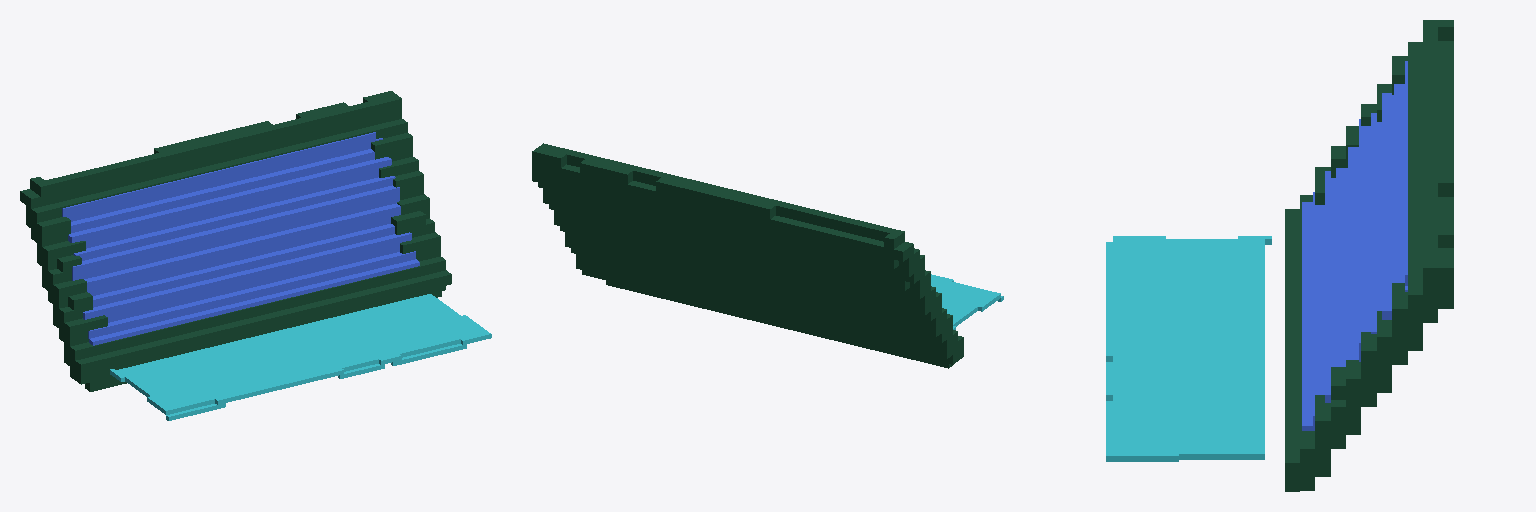
robot.urdf — physxnet_10114_strict:
<?xml version='1.0' encoding='utf-8'?>
<robot name="physxnet_10114_strict">
  <link name="l_world">
    <inertial>
      <origin xyz="0 0 0" rpy="0 0 0" />
      <mass value="0.0100000000" />
      <inertia ixx="0.0000001667" ixy="0.0" ixz="0.0" iyy="0.0000001667" iyz="0.0" izz="0.0000001667" />
    </inertial>
  </link><link name="l_0">
    <inertial>
      <origin xyz="-0.0019166549 0.0879811925 0.0015493027" rpy="0 0 0" />
      <mass value="0.0061784728" />
      <inertia ixx="0.0000083834" ixy="0.0" ixz="0.0" iyy="0.0000580596" iyz="0.0" izz="0.0000546644" />
    </inertial><visual>
      <origin xyz="0 0 0" rpy="0 0 0" />
      <geometry>
        <mesh filename="../rigid_visuals/part_000_visual.obj" scale="1 1 1" />
      </geometry><material name="mat_l_0">
        <color rgba="0.32548 0.48041 0.93131 1.00000" />
      </material>
    </visual><collision>
      <origin xyz="0 0 0" rpy="0 0 0" />
      <geometry>
        <mesh filename="part_000_collision.obj" scale="1 1 1" />
      </geometry>
    </collision>
  </link><joint name="joint_fixed_l_world_l_0" type="fixed">
    <parent link="l_world" />
    <child link="l_0" />
    <origin xyz="0 0 0" rpy="0 0 0" />
  </joint><link name="l_1">
    <inertial>
      <origin xyz="0.0000139443 0.0928852414 0.0001529301" rpy="0 0 0" />
      <mass value="0.0827007993" />
      <inertia ixx="0.0001968635" ixy="0.0" ixz="0.0" iyy="0.0009809401" iyz="0.0" izz="0.0009034850" />
    </inertial><visual>
      <origin xyz="0 0 0" rpy="0 0 0" />
      <geometry>
        <mesh filename="../rigid_visuals/part_001_visual.obj" scale="1 1 1" />
      </geometry><material name="mat_l_1">
        <color rgba="0.15447 0.35718 0.26453 1.00000" />
      </material>
    </visual><collision>
      <origin xyz="0 0 0" rpy="0 0 0" />
      <geometry>
        <mesh filename="part_001_collision.obj" scale="1 1 1" />
      </geometry>
    </collision>
  </link><joint name="joint_fixed_l_0_l_1" type="fixed">
    <parent link="l_0" />
    <child link="l_1" />
    <origin xyz="0 0 0" rpy="0 0 0" />
  </joint><link name="l_2">
    <inertial>
      <origin xyz="0.0000062864 -0.0169202602 -0.0603934316" rpy="0 0 0" />
      <mass value="0.0018462751" />
      <inertia ixx="0.0000014169" ixy="0.0" ixz="0.0" iyy="0.0000152180" iyz="0.0" izz="0.0000166314" />
    </inertial><visual>
      <origin xyz="0 0 0" rpy="0 0 0" />
      <geometry>
        <mesh filename="../rigid_visuals/part_002_visual.obj" scale="1 1 1" />
      </geometry><material name="mat_l_2">
        <color rgba="0.29417 0.82410 0.87988 1.00000" />
      </material>
    </visual><collision>
      <origin xyz="0 0 0" rpy="0 0 0" />
      <geometry>
        <mesh filename="part_002_collision.obj" scale="1 1 1" />
      </geometry>
    </collision>
  </link><joint name="joint_fixed_l_1_l_2" type="fixed">
    <parent link="l_1" />
    <child link="l_2" />
    <origin xyz="0 0 0" rpy="0 0 0" />
  </joint><link name="l_3">
    <inertial>
      <origin xyz="-0.0038312525 -0.1069943544 -0.0633474507" rpy="0 0 0" />
      <mass value="0.0002551690" />
      <inertia ixx="0.0000000612" ixy="0.0" ixz="0.0" iyy="0.0000004055" iyz="0.0" izz="0.0000004666" />
    </inertial><visual>
      <origin xyz="0 0 0" rpy="0 0 0" />
      <geometry>
        <mesh filename="../rigid_visuals/part_003_visual.obj" scale="1 1 1" />
      </geometry><material name="mat_l_3">
        <color rgba="0.55944 0.19916 0.68114 1.00000" />
      </material>
    </visual><collision>
      <origin xyz="0 0 0" rpy="0 0 0" />
      <geometry>
        <mesh filename="part_003_collision.obj" scale="1 1 1" />
      </geometry>
    </collision>
  </link><joint name="joint_fixed_l_2_l_3" type="fixed">
    <parent link="l_2" />
    <child link="l_3" />
    <origin xyz="0 0 0" rpy="0 0 0" />
  </joint><link name="l_4">
    <inertial>
      <origin xyz="0.0000000000 -0.0428128747 -0.0633569374" rpy="0 0 0" />
      <mass value="0.0178533157" />
      <inertia ixx="0.0000558651" ixy="0.0" ixz="0.0" iyy="0.0001825726" iyz="0.0" izz="0.0002377977" />
    </inertial><visual>
      <origin xyz="0 0 0" rpy="0 0 0" />
      <geometry>
        <mesh filename="../rigid_visuals/part_004_visual.obj" scale="1 1 1" />
      </geometry><material name="mat_l_4">
        <color rgba="0.31347 0.28085 0.26098 1.00000" />
      </material>
    </visual><collision>
      <origin xyz="0 0 0" rpy="0 0 0" />
      <geometry>
        <mesh filename="part_004_collision.obj" scale="1 1 1" />
      </geometry>
    </collision>
  </link><joint name="joint_fixed_l_3_l_4" type="fixed">
    <parent link="l_3" />
    <child link="l_4" />
    <origin xyz="0 0 0" rpy="0 0 0" />
  </joint>
</robot>

--- What the picture shows (computed from the rendered views, not written in the file) ---
Views: 3 orthographic renders of the robot side by side, from view 1: azimuth 30°, elevation 25°; view 2: azimuth 150°, elevation 25°; view 3: azimuth 270°, elevation 25°.
Model physxnet_10114_strict with 6 links and 5 joints (5 fixed), rooted at l_world, posed all joints at 0.
Visible links, largest first — view 1: l_0, l_1, l_2; view 2: l_1, l_2; view 3: l_2, l_1, l_0.
Boxes of the visible links, x1,y1,x2,y2 form: l_0: (62, 132, 419, 345); l_1: (20, 91, 451, 391); l_2: (110, 294, 491, 420); l_1: (532, 143, 963, 368); l_2: (931, 274, 1003, 329); l_2: (1106, 236, 1271, 461); l_1: (1285, 20, 1453, 491); l_0: (1302, 61, 1407, 430).
Size in the robot's own frame: 0.363 by 0.2103 by 0.1582 metres.
3 mesh visuals loaded from 5 distinct referenced files (3 OBJ); not drawn: 2 (reference not matched to a file when rendering).
